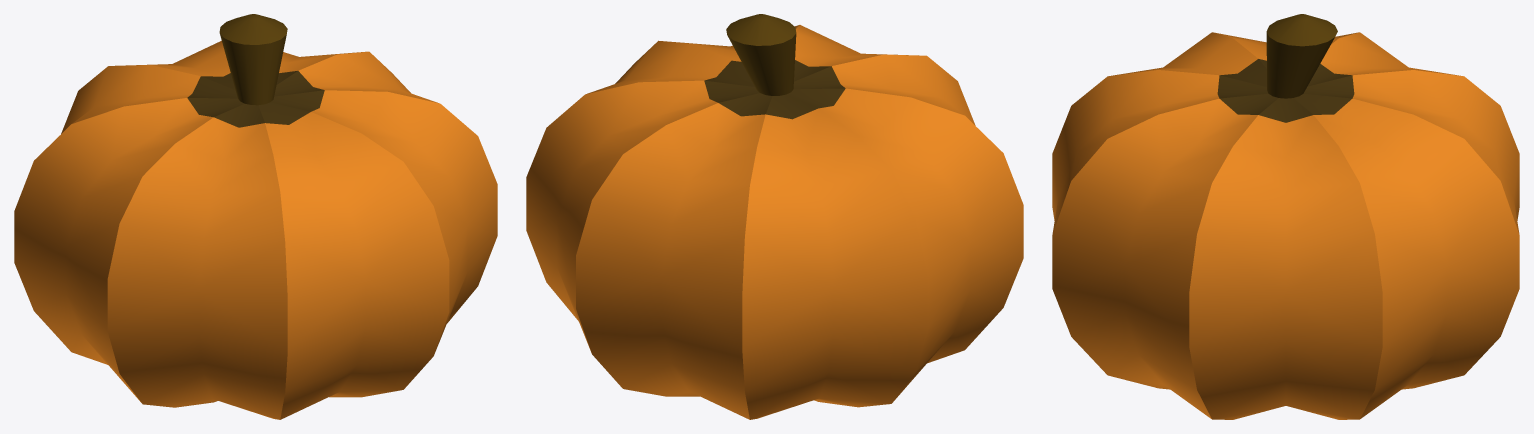
The model's file is Pumpkin.dae.
3 views of the same model, side by side, from view 1: azimuth 30°, elevation 25°; view 2: azimuth 150°, elevation 25°; view 3: azimuth 270°, elevation 25° (orthographic). The views are drawn at different scales.
Parts seen in each view (by area): view 1: Sphere; view 2: Sphere; view 3: Sphere.
Part boxes in pixels (x1=…): Sphere: x1=14, y1=14, x2=497, y2=419; Sphere: x1=526, y1=14, x2=1023, y2=419; Sphere: x1=1052, y1=14, x2=1519, y2=419.
Bounding box in the file's own units: 0.7901 × 0.7901 × 0.6876.
